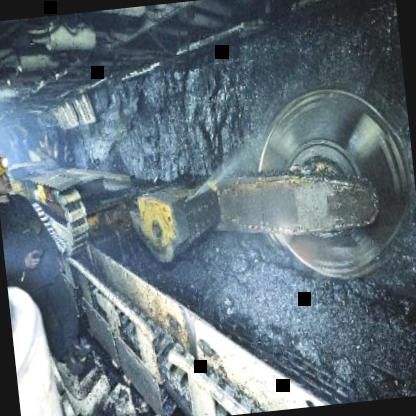helmet: (0, 149, 11, 195)
